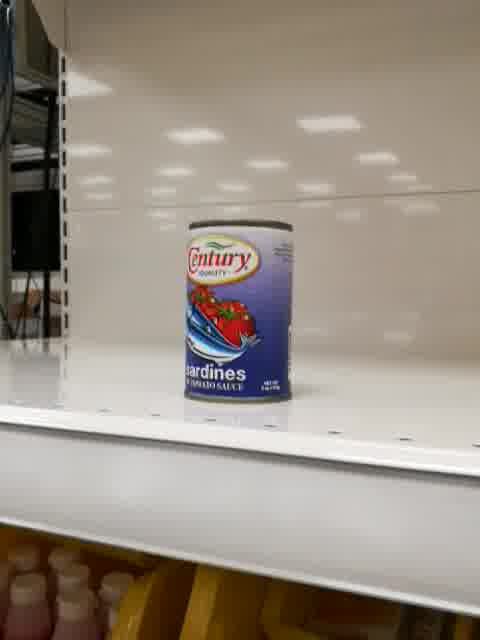sardine: (181, 218, 295, 407)
